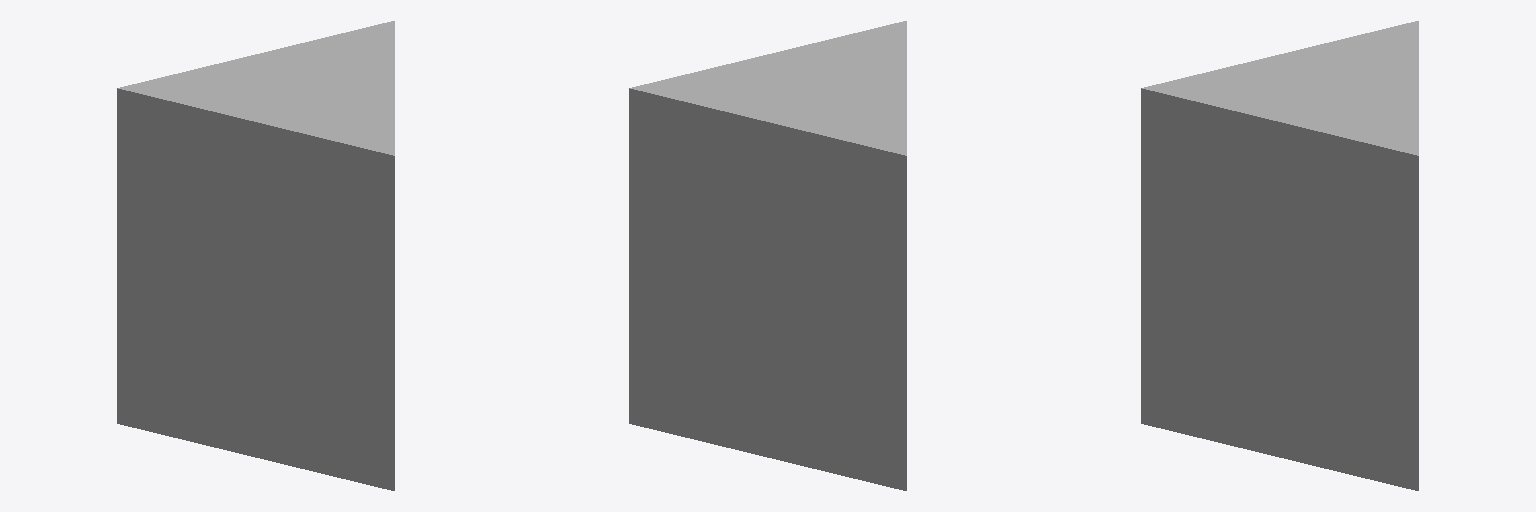
robot.urdf — root:
<?xml version='1.0' encoding='utf-8'?>
<robot name="root">
  <link name="link_001">
    <visual>
      <origin xyz="0 0 0" rpy="0 0 0" />
      <geometry>
        <mesh filename="832f14afa4aaeefbbe8c18c74b5b552af516ca901ca8b83e2896b5cca9c2f13d_scale_001.stl" scale="1.0000E+00 1.0000E+00 1.0000E+00" />
      </geometry>
      <material name="">
        <color rgba="7.50E-01 7.50E-01 7.50E-01 1" />
      </material>
    </visual>
    <collision>
      <origin xyz="0 0 0" rpy="0 0 0" />
      <geometry>
        <mesh filename="832f14afa4aaeefbbe8c18c74b5b552af516ca901ca8b83e2896b5cca9c2f13d_scale_001.stl" scale="1.0000E+00 1.0000E+00 1.0000E+00" />
      </geometry>
    </collision>
  </link>
</robot>

--- What the picture shows (computed from the rendered views, not written in the file) ---
The picture shows the robot from 3 angles, left to right: view 1: azimuth 30°, elevation 25°; view 2: azimuth 150°, elevation 25°; view 3: azimuth 270°, elevation 25°; orthographic projection.
Robot: root — 1 links, 0 joints (none); root link link_001; default pose: every joint at zero.
Links seen in each view (by area): view 1: link_001; view 2: link_001; view 3: link_001.
Link boxes in pixels (box(x1,y1,x2,y2)): link_001: box(117, 21, 394, 490); link_001: box(629, 21, 906, 490); link_001: box(1141, 21, 1418, 490).
Size in the robot's own frame: 0.1039 by 0.09 by 0.12 metres.
Meshes: 1 distinct files referenced, 1 mesh visuals loaded (1 binary STL).
